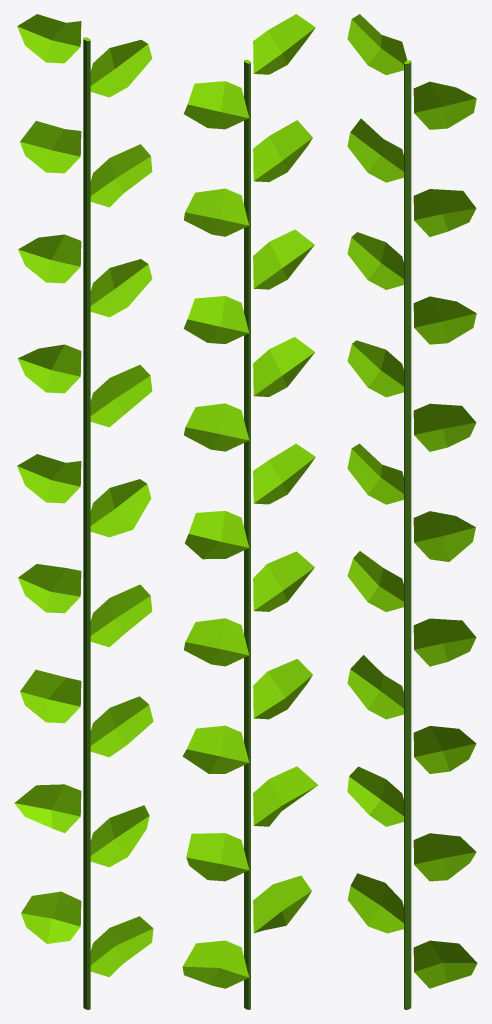
File: Vegetation (2).fbx
3 renders of one model, left to right at view 1: azimuth 30°, elevation 25°; view 2: azimuth 210°, elevation 25°; view 3: azimuth 330°, elevation 25°, orthographic. The views are drawn at different scales.
Parts seen in each view (by area): view 1: Cylinder.003, Cylinder.006; view 2: Cylinder.003, Cylinder.006; view 3: Cylinder.003, Cylinder.006.
Boxes of the visible parts, left/top/right/bottom form: Cylinder.003: left=14, top=14, right=153, bottom=977; Cylinder.006: left=83, top=39, right=90, bottom=1009; Cylinder.003: left=182, top=14, right=317, bottom=988; Cylinder.006: left=244, top=61, right=250, bottom=1009; Cylinder.003: left=347, top=14, right=477, bottom=988; Cylinder.006: left=404, top=61, right=411, bottom=1009.
Size of the model in its own units: 12.68 by 89.95 by 1.54.
